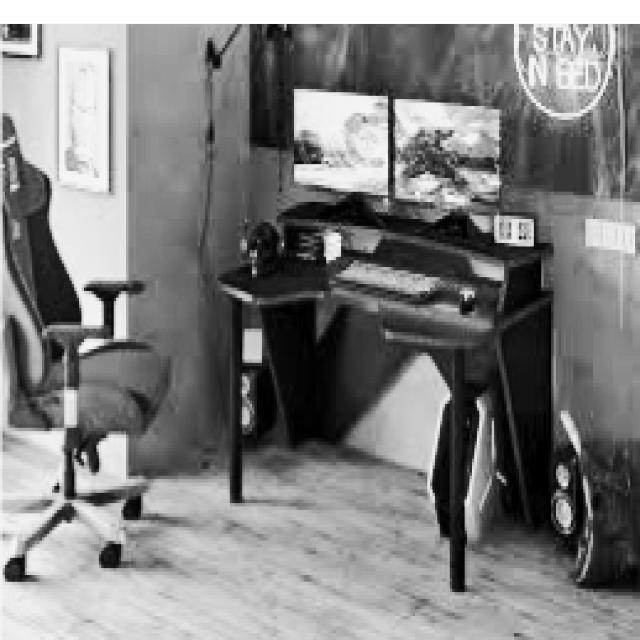table: (215, 209, 553, 592)
